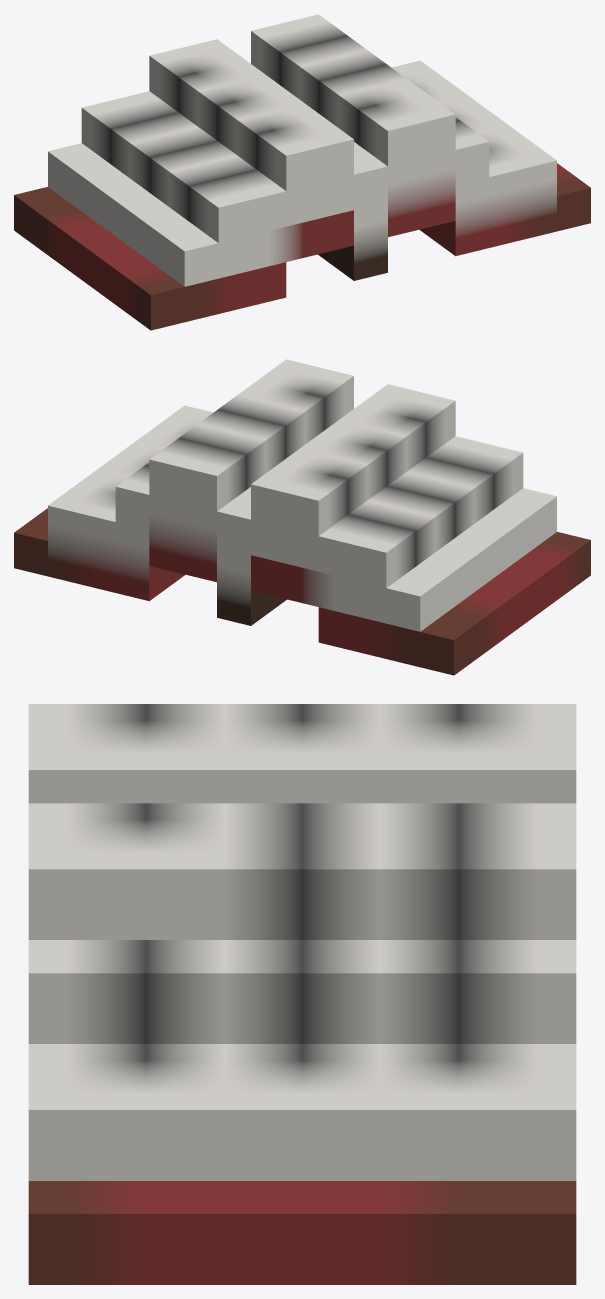
Rendered from Captain_Book_00.fbx.
3 views of the same model, one above another, from view 1: azimuth 30°, elevation 25°; view 2: azimuth 150°, elevation 25°; view 3: azimuth 270°, elevation 25° (orthographic). The views are drawn at different scales.
Visible parts, largest first — view 1: Captain_Book_00; view 2: Captain_Book_00; view 3: Captain_Book_00.
Boxes of the visible parts, box(x1,y1,x2,y2) form: Captain_Book_00: box(14, 14, 590, 330); Captain_Book_00: box(14, 359, 590, 675); Captain_Book_00: box(28, 704, 576, 1284).
Size of the model in its own units: 65 by 20 by 35.
